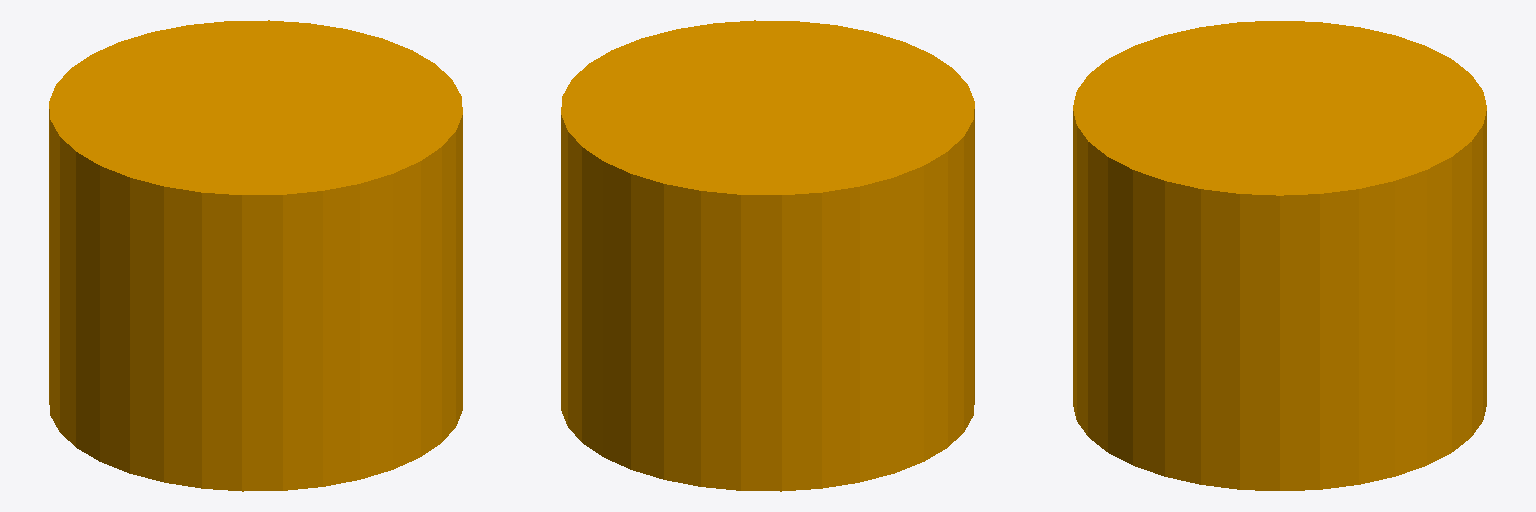
URDF robot description (typhoon_h480):
<?xml version="1.0" ?>
<robot name="typhoon_h480">
  <joint name="typhoon_h480__cgo3_mount_joint" type="fixed">
    <parent link="base_link"/>
    <child link="typhoon_h480__cgo3_mount_link"/>
    <origin xyz="0   0   0.26" rpy="0 0 0"/>
    <axis xyz="0 0 1"/>
    <limit lower="0.0" upper="0.0" effort="100.0" velocity="-1.0"/>
  </joint>
  <joint name="typhoon_h480__cgo3_vertical_arm_joint" type="revolute">
    <parent link="typhoon_h480__cgo3_mount_link"/>
    <child link="typhoon_h480__cgo3_vertical_arm_link"/>
    <origin xyz="-0.026  0    -0.1" rpy="0 0 0"/>
    <axis xyz="0 0 1"/>
    <limit lower="-1e+16" upper="1e+16" effort="100.0" velocity="-1.0"/>
  </joint>
  <joint name="typhoon_h480__cgo3_horizontal_arm_joint" type="revolute">
    <parent link="typhoon_h480__cgo3_vertical_arm_link"/>
    <child link="typhoon_h480__cgo3_horizontal_arm_link"/>
    <origin xyz="-0.044  0    -0.062" rpy="0 0 0"/>
    <axis xyz="-1  0  0"/>
    <limit lower="-0.785398" upper="0.785398" effort="100.0" velocity="-1.0"/>
  </joint>
  <joint name="typhoon_h480__cgo3_camera_joint" type="revolute">
    <parent link="typhoon_h480__cgo3_horizontal_arm_link"/>
    <child link="camera_link"/>
    <origin xyz="0.06 0.03 0" rpy="0 0 0"/>
    <axis xyz="0 -1  0"/>
    <limit lower="-1.5708" upper="0.7854" effort="100.0" velocity="-1.0"/>
  </joint>
  <joint name="typhoon_h480__left_leg_joint" type="revolute">
    <parent link="base_link"/>
    <child link="typhoon_h480__left_leg"/>
    <origin xyz="0.00025 -0.04051  0.212" rpy="0 0 0"/>
    <axis xyz="-1  0  0"/>
    <limit lower="0.0" upper="1.0" effort="100.0" velocity="-1.0"/>
  </joint>
  <joint name="typhoon_h480__right_leg_joint" type="revolute">
    <parent link="base_link"/>
    <child link="typhoon_h480__right_leg"/>
    <origin xyz="0.00025 0.04051 0.212" rpy="0 0 0"/>
    <axis xyz="1 0 0"/>
    <limit lower="0.0" upper="1.0" effort="100.0" velocity="-1.0"/>
  </joint>
  <joint name="typhoon_h480__typhoon_h480/imu_joint" type="fixed">
    <parent link="base_link"/>
    <child link="imu_link"/>
    <origin xyz="0   0   0.26" rpy="0 0 0"/>
    <axis xyz="1 0 0"/>
    <limit lower="0.0" upper="0.0" effort="0.0" velocity="0.0"/>
  </joint>
  <joint name="typhoon_h480__lidar_joint" type="fixed">
    <parent link="base_link"/>
    <child link="lidar_link"/>
    <origin xyz="0   0   0.26" rpy="0 0 0"/>
    <axis xyz="0 0 0"/>
    <limit lower="0" upper="0" effort="0" velocity="0"/>
  </joint>
  <joint name="typhoon_h480__gps_joint" type="fixed">
    <parent link="base_link"/>
    <child link="gps_link"/>
    <origin xyz="0   0   0.26" rpy="0 0 0"/>
    <axis xyz="0 0 0"/>
    <limit lower="0" upper="0" effort="0" velocity="0"/>
  </joint>
  <joint name="typhoon_h480__rotor_3_joint" type="revolute">
    <parent link="base_link"/>
    <child link="typhoon_h480__rotor_3"/>
    <origin xyz="0.21139 0.11976 0.34221" rpy="0 0 0"/>
    <axis xyz="0 0 1"/>
    <limit lower="-1e+16" upper="1e+16" effort="10.0" velocity="-1.0"/>
  </joint>
  <joint name="typhoon_h480__rotor_0_joint" type="revolute">
    <parent link="base_link"/>
    <child link="typhoon_h480__rotor_0"/>
    <origin xyz="-0.20939  0.12276  0.34221" rpy="0      0      2.09439"/>
    <axis xyz="0 0 1"/>
    <limit lower="-1e+16" upper="1e+16" effort="10.0" velocity="-1.0"/>
  </joint>
  <joint name="typhoon_h480__rotor_4_joint" type="revolute">
    <parent link="base_link"/>
    <child link="typhoon_h480__rotor_4"/>
    <origin xyz="-0.00187  0.2427   0.34221" rpy="0 0 0"/>
    <axis xyz="0 0 1"/>
    <limit lower="-1e+16" upper="1e+16" effort="10.0" velocity="-1.0"/>
  </joint>
  <joint name="typhoon_h480__rotor_1_joint" type="revolute">
    <parent link="base_link"/>
    <child link="typhoon_h480__rotor_1"/>
    <origin xyz="0.21139 -0.11976  0.34221" rpy="0       0      -2.09439"/>
    <axis xyz="0 0 1"/>
    <limit lower="-1e+16" upper="1e+16" effort="10.0" velocity="-1.0"/>
  </joint>
  <joint name="typhoon_h480__rotor_5_joint" type="revolute">
    <parent link="base_link"/>
    <child link="typhoon_h480__rotor_5"/>
    <origin xyz="-0.00187 -0.2427   0.34221" rpy="0       0      -2.09439"/>
    <axis xyz="0 0 1"/>
    <limit lower="-1e+16" upper="1e+16" effort="10.0" velocity="-1.0"/>
  </joint>
  <joint name="typhoon_h480__rotor_2_joint" type="revolute">
    <parent link="base_link"/>
    <child link="typhoon_h480__rotor_2"/>
    <origin xyz="-0.20939 -0.12276  0.34221" rpy="0      0      2.09439"/>
    <axis xyz="0 0 1"/>
    <limit lower="-1e+16" upper="1e+16" effort="10.0" velocity="-1.0"/>
  </joint>
  <link name="base_link">
    <inertial>
      <mass value="2.02"/>
      <origin xyz="0.001  0    -0.009" rpy="0 0 0"/>
      <inertia ixx="0.011" ixy="0" ixz="0" iyy="0.015" iyz="0" izz="0.021"/>
    </inertial>
    <collision name="base_link_collision">
      <origin xyz="0   0   0.26" rpy="0 0 0"/>
      <geometry>
        <box size="0.67 0.67 0.15"/>
      </geometry>
    </collision>
    <visual name="base_link_visual">
      <origin xyz="0   0   0.26" rpy="0      0      3.14159"/>
      <geometry>
        <mesh filename="package://drone_nav/description/meshes/main_body_remeshed_v3.stl" scale="0.001 0.001 0.001"/>
      </geometry>
    </visual>
  </link>
  <link name="typhoon_h480__cgo3_mount_link">
    <inertial>
      <mass value="0.1"/>
      <origin xyz="-0.041  0    -0.162" rpy="0 0 0"/>
      <inertia ixx="0.001" ixy="0" ixz="0" iyy="0.001" iyz="0" izz="0.001"/>
    </inertial>
    <visual name="typhoon_h480__cgo3_mount_visual">
      <origin xyz="0 0 0" rpy="0 0 0"/>
      <geometry>
        <mesh filename="package://drone_nav/description/meshes/cgo3_mount_remeshed_v1.stl" scale="0.001 0.001 0.001"/>
      </geometry>
    </visual>
  </link>
  <link name="typhoon_h480__cgo3_vertical_arm_link">
    <inertial>
      <mass value="0.1"/>
      <origin xyz="-0.041  0    -0.162" rpy="0 0 0"/>
      <inertia ixx="0.001" ixy="0" ixz="0" iyy="0.001" iyz="0" izz="0.001"/>
    </inertial>
    <visual name="typhoon_h480__cgo3_vertical_arm_visual">
      <origin xyz="-0.025  0     0.1" rpy="0      0      3.14159"/>
      <geometry>
        <mesh filename="package://drone_nav/description/meshes/cgo3_vertical_arm_remeshed_v1.stl" scale="0.001 0.001 0.001"/>
      </geometry>
    </visual>
  </link>
  <link name="typhoon_h480__cgo3_horizontal_arm_link">
    <inertial>
      <mass value="0.1"/>
      <origin xyz="-0.041  0    -0.081" rpy="0 0 0"/>
      <inertia ixx="0.001" ixy="0" ixz="0" iyy="0.001" iyz="0" izz="0.001"/>
    </inertial>
    <visual name="typhoon_h480__cgo3_horizontal_arm_visual">
      <origin xyz="0.02  0    0.162" rpy="0      0      3.14159"/>
      <geometry>
        <mesh filename="package://drone_nav/description/meshes/cgo3_horizontal_arm_remeshed_v1.stl" scale="0.001 0.001 0.001"/>
      </geometry>
    </visual>
  </link>
  <link name="camera_link">
    <inertial>
      <mass value="0.1"/>
      <origin xyz="-0.041  0    -0.162" rpy="0 0 0"/>
      <inertia ixx="0.001" ixy="0" ixz="0" iyy="0.001" iyz="0" izz="0.001"/>
    </inertial>
    <collision name="typhoon_h480__cgo3_camera_collision">
      <origin xyz="-0.031 -0.03   0" rpy="0 0 0"/>
      <geometry>
        <sphere radius="0.035"/>
      </geometry>
    </collision>
    <visual name="typhoon_h480__cgo3_camera_visual">
      <origin xyz="-0.04  -0.03   0.162" rpy="0      0      3.14159"/>
      <geometry>
        <mesh filename="package://drone_nav/description/meshes/cgo3_camera_remeshed_v1.stl" scale="0.001 0.001 0.001"/>
      </geometry>
    </visual>
  </link>
  <link name="typhoon_h480__left_leg">
    <inertial>
      <mass value="0.1"/>
      <origin xyz="0      -0.14313 -0.20725" rpy="0 0 0"/>
      <inertia ixx="0.001" ixy="0" ixz="0" iyy="0.001" iyz="0" izz="0.001"/>
    </inertial>
    <collision name="typhoon_h480__collision">
      <origin xyz="-0.00526 -0.10262 -0.15925" rpy="0      1.56893 0"/>
      <geometry>
        <cylinder radius="0.012209" length="0.3"/>
      </geometry>
    </collision>
    <collision name="typhoon_h480__collision_bar">
      <origin xyz="0.00025 -0.04451 -0.07318" rpy="-0.50131  0       0"/>
      <geometry>
        <cylinder radius="0.00914984" length="0.176893"/>
      </geometry>
    </collision>
    <visual name="base_link_left_leg">
      <origin xyz="-0.00025  0.04051  0.048" rpy="0 0 0"/>
      <geometry>
        <mesh filename="package://drone_nav/description/meshes/leg2_remeshed_v3.stl" scale="0.001 0.001 0.001"/>
      </geometry>
    </visual>
  </link>
  <link name="typhoon_h480__right_leg">
    <inertial>
      <mass value="0.1"/>
      <origin xyz="0       0.14313 -0.20725" rpy="0 0 0"/>
      <inertia ixx="0.001" ixy="0" ixz="0" iyy="0.001" iyz="0" izz="0.001"/>
    </inertial>
    <collision name="typhoon_h480__collision">
      <origin xyz="-0.00526  0.10262 -0.15925" rpy="0      1.56893 0"/>
      <geometry>
        <cylinder radius="0.012209" length="0.3"/>
      </geometry>
    </collision>
    <collision name="typhoon_h480__collision_bar">
      <origin xyz="0.00025  0.04451 -0.07318" rpy="0.50131 0      0"/>
      <geometry>
        <cylinder radius="0.00914984" length="0.176893"/>
      </geometry>
    </collision>
    <visual name="base_link_right_leg">
      <origin xyz="-0.00025 -0.04051  0.048" rpy="0 0 0"/>
      <geometry>
        <mesh filename="package://drone_nav/description/meshes/leg1_remeshed_v3.stl" scale="0.001 0.001 0.001"/>
      </geometry>
    </visual>
  </link>
  <link name="imu_link">
    <inertial>
      <mass value="0.015"/>
      <origin xyz="0 0 0" rpy="0 0 0"/>
      <inertia ixx="1e-05" ixy="0" ixz="0" iyy="1e-05" iyz="0" izz="1e-05"/>
    </inertial>
  </link>
  <link name="lidar_link">
    <inertial>
      <mass value="0.114"/>
      <origin xyz="0.06 0   0.06" rpy="0 0 0"/>
      <inertia ixx="0.001" ixy="0.000" ixz="0.000" iyy="0.001" iyz="0.000" izz="0.001"/>
    </inertial>
    <collision name="typhoon_h480__lidar_collision">
      <origin xyz="0.06 0   0.06" rpy="0 0 0"/>
      <geometry>
        <cylinder radius="0.0508" length="0.07"/>
      </geometry>
    </collision>
    <visual name="typhoon_h480__lidar_visual">
      <origin xyz="0.02 0   0.04" rpy="0 0 0"/>
      <geometry>
        <cylinder radius="0.0508" length="0.08"/>
      </geometry>
    </visual>
  </link>
  <link name="gps_link">
    <inertial>
      <mass value="0.015"/>
      <origin xyz="0 0 0" rpy="0 0 0"/>
      <inertia ixx="1e-05" ixy="0" ixz="0" iyy="1e-05" iyz="0" izz="1e-05"/>
    </inertial>
    <visual name="typhoon_h480__visual">
      <origin xyz="0 0 0" rpy="0 0 0"/>
      <geometry>
        <cylinder radius="0.01" length="0.002"/>
      </geometry>
    </visual>
  </link>
  <link name="typhoon_h480__rotor_3">
    <inertial>
      <mass value="0.005"/>
      <origin xyz="0 0 0" rpy="0 0 0"/>
      <inertia ixx="9.75e-07" ixy="0" ixz="0" iyy="0.000273104" iyz="0" izz="0.000274004"/>
    </inertial>
    <collision name="typhoon_h480__rotor_3_collision">
      <origin xyz="0 0 0" rpy="0 0 0"/>
      <geometry>
        <cylinder radius="0.128" length="0.005"/>
      </geometry>
    </collision>
    <visual name="typhoon_h480__rotor_3_visual">
      <origin xyz="-0.21139 -0.11976 -0.08221" rpy="0 0 0"/>
      <geometry>
        <mesh filename="package://drone_nav/description/meshes/prop_ccw_assembly_remeshed_v3.stl" scale="0.001 0.001 0.001"/>
      </geometry>
    </visual>
  </link>
  <link name="typhoon_h480__rotor_0">
    <inertial>
      <mass value="0.005"/>
      <origin xyz="0 0 0" rpy="0 0 0"/>
      <inertia ixx="9.75e-07" ixy="0" ixz="0" iyy="0.000273104" iyz="0" izz="0.000274004"/>
    </inertial>
    <collision name="typhoon_h480__rotor_0_collision">
      <origin xyz="0 0 0" rpy="0 0 0"/>
      <geometry>
        <cylinder radius="0.128" length="0.005"/>
      </geometry>
    </collision>
    <visual name="typhoon_h480__rotor_0_visual">
      <origin xyz="-0.21139 -0.11976 -0.08221" rpy="0 0 0"/>
      <geometry>
        <mesh filename="package://drone_nav/description/meshes/prop_ccw_assembly_remeshed_v3.stl" scale="0.001 0.001 0.001"/>
      </geometry>
    </visual>
  </link>
  <link name="typhoon_h480__rotor_4">
    <inertial>
      <mass value="0.005"/>
      <origin xyz="0 0 0" rpy="0 0 0"/>
      <inertia ixx="9.75e-07" ixy="0" ixz="0" iyy="0.000273104" iyz="0" izz="0.000274004"/>
    </inertial>
    <collision name="typhoon_h480__rotor_4_collision">
      <origin xyz="0 0 0" rpy="0 0 0"/>
      <geometry>
        <cylinder radius="0.128" length="0.005"/>
      </geometry>
    </collision>
    <visual name="typhoon_h480__rotor_4_visual">
      <origin xyz="0.00187 -0.2427  -0.08221" rpy="0 0 0"/>
      <geometry>
        <mesh filename="package://drone_nav/description/meshes/prop_cw_assembly_remeshed_v3.stl" scale="0.001 0.001 0.001"/>
      </geometry>
    </visual>
  </link>
  <link name="typhoon_h480__rotor_1">
    <inertial>
      <mass value="0.005"/>
      <origin xyz="0 0 0" rpy="0 0 0"/>
      <inertia ixx="9.75e-07" ixy="0" ixz="0" iyy="0.000273104" iyz="0" izz="0.000274004"/>
    </inertial>
    <collision name="typhoon_h480__rotor_1_collision">
      <origin xyz="0 0 0" rpy="0 0 0"/>
      <geometry>
        <cylinder radius="0.128" length="0.005"/>
      </geometry>
    </collision>
    <visual name="typhoon_h480__rotor_1_visual">
      <origin xyz="0.00187 -0.2427  -0.08221" rpy="0 0 0"/>
      <geometry>
        <mesh filename="package://drone_nav/description/meshes/prop_cw_assembly_remeshed_v3.stl" scale="0.001 0.001 0.001"/>
      </geometry>
    </visual>
  </link>
  <link name="typhoon_h480__rotor_5">
    <inertial>
      <mass value="0.005"/>
      <origin xyz="0 0 0" rpy="0 0 0"/>
      <inertia ixx="9.75e-07" ixy="0" ixz="0" iyy="0.000273104" iyz="0" izz="0.000274004"/>
    </inertial>
    <collision name="typhoon_h480__rotor_5_collision">
      <origin xyz="0 0 0" rpy="0 0 0"/>
      <geometry>
        <cylinder radius="0.128" length="0.005"/>
      </geometry>
    </collision>
    <visual name="typhoon_h480__rotor_5_visual">
      <origin xyz="-0.21139 -0.11976 -0.08221" rpy="0 0 0"/>
      <geometry>
        <mesh filename="package://drone_nav/description/meshes/prop_ccw_assembly_remeshed_v3.stl" scale="0.001 0.001 0.001"/>
      </geometry>
    </visual>
  </link>
  <link name="typhoon_h480__rotor_2">
    <inertial>
      <mass value="0.005"/>
      <origin xyz="0 0 0" rpy="0 0 0"/>
      <inertia ixx="9.75e-07" ixy="0" ixz="0" iyy="0.000273104" iyz="0" izz="0.000274004"/>
    </inertial>
    <collision name="typhoon_h480__rotor_2_collision">
      <origin xyz="0 0 0" rpy="0 0 0"/>
      <geometry>
        <cylinder radius="0.128" length="0.005"/>
      </geometry>
    </collision>
    <visual name="typhoon_h480__rotor_2_visual">
      <origin xyz="0.00187 -0.2427  -0.08221" rpy="0 0 0"/>
      <geometry>
        <mesh filename="package://drone_nav/description/meshes/prop_cw_assembly_remeshed_v3.stl" scale="0.001 0.001 0.001"/>
      </geometry>
    </visual>
  </link>
</robot>

--- Render facts (derived) ---
3 views of the same robot in one strip: view 1: azimuth 30°, elevation 25°; view 2: azimuth 150°, elevation 25°; view 3: azimuth 270°, elevation 25° (orthographic).
Model typhoon_h480 with 16 links and 15 joints (11 revolute, 4 fixed), rooted at base_link, posed all joints at 0.
Visible links, largest first — view 1: lidar_link; view 2: lidar_link; view 3: lidar_link.
Boxes of the visible links, <box> form: lidar_link: <box>49,20,462,491</box>; lidar_link: <box>561,20,974,491</box>; lidar_link: <box>1073,21,1486,490</box>.
Size in the robot's own frame: 0.1016 by 0.1016 by 0.081 metres.
Meshes: 9 distinct files referenced, 0 mesh visuals loaded (none loaded); not drawn: 13 (reference not matched to a file when rendering).